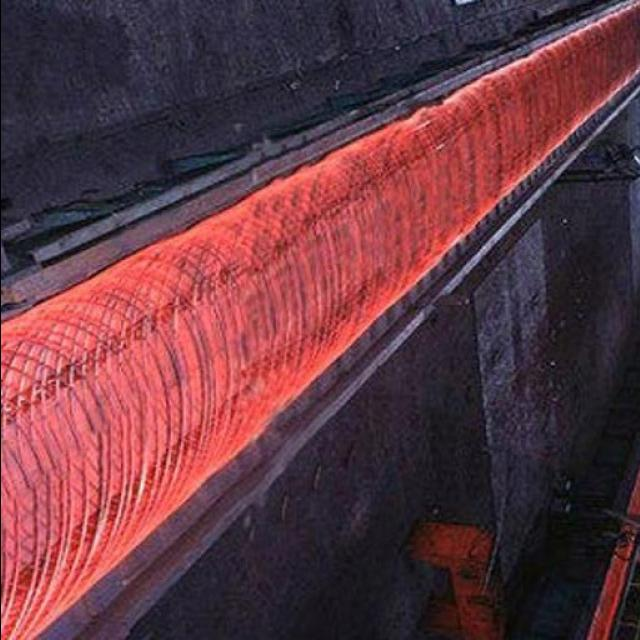conveyor: (0, 0, 639, 640)
